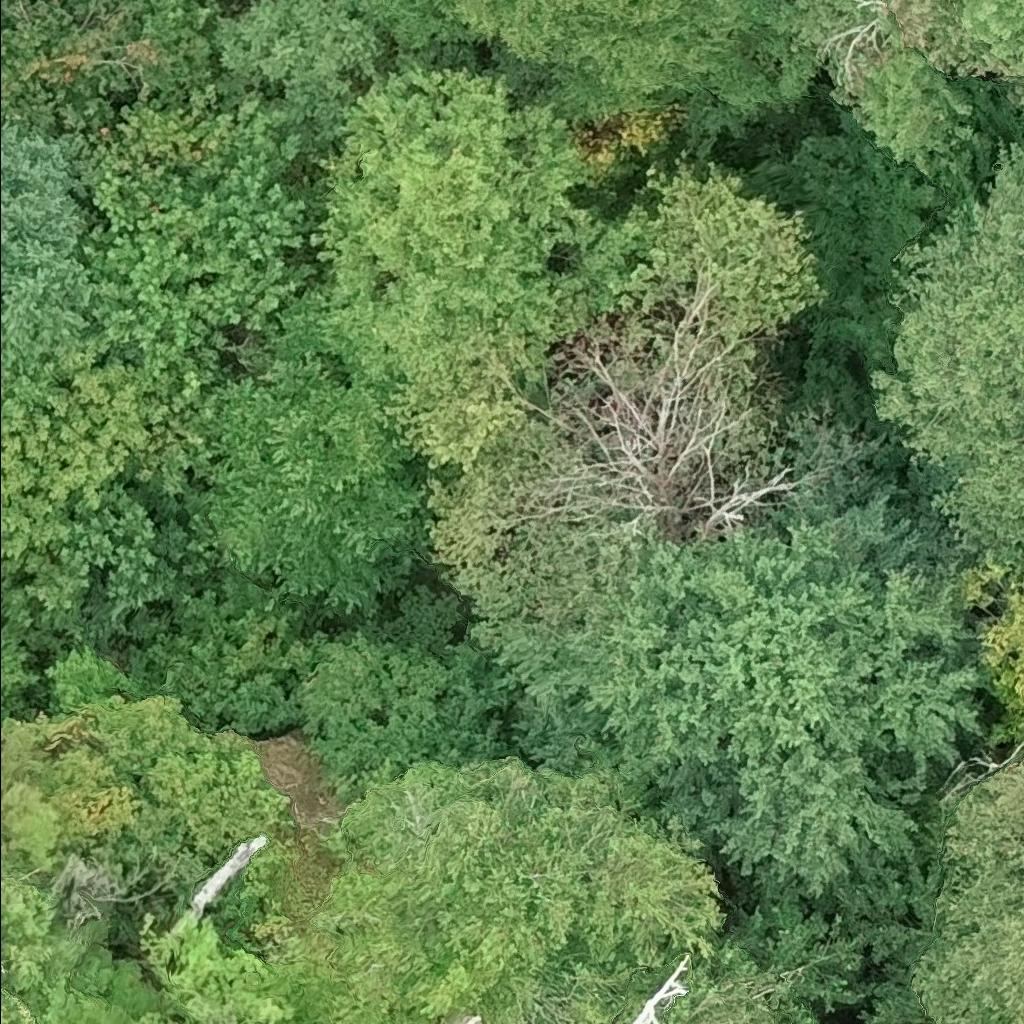crown: (583, 484, 986, 922), (313, 747, 724, 1023), (311, 62, 646, 385), (195, 281, 422, 614), (79, 77, 326, 365), (869, 135, 1023, 569), (366, 0, 819, 116), (0, 327, 214, 565), (766, 0, 1023, 189), (863, 759, 1023, 1023), (0, 0, 217, 132), (0, 120, 112, 371), (954, 546, 1023, 745), (0, 991, 35, 1023)
